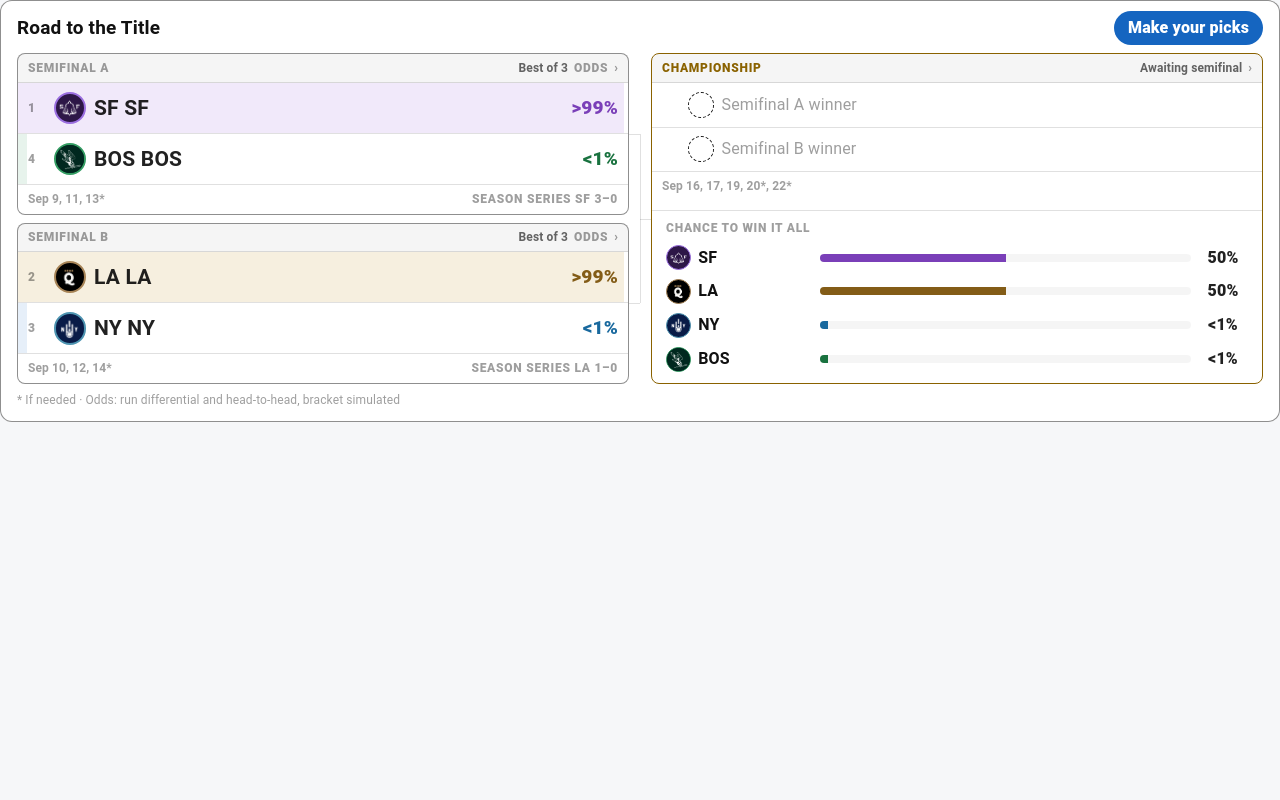
it: picking a series › asks for a club before it asks how long
The image size is (1280, 800).
Click the button "Make your picks".
click(1188, 28)  # box [1114, 11, 1263, 45]
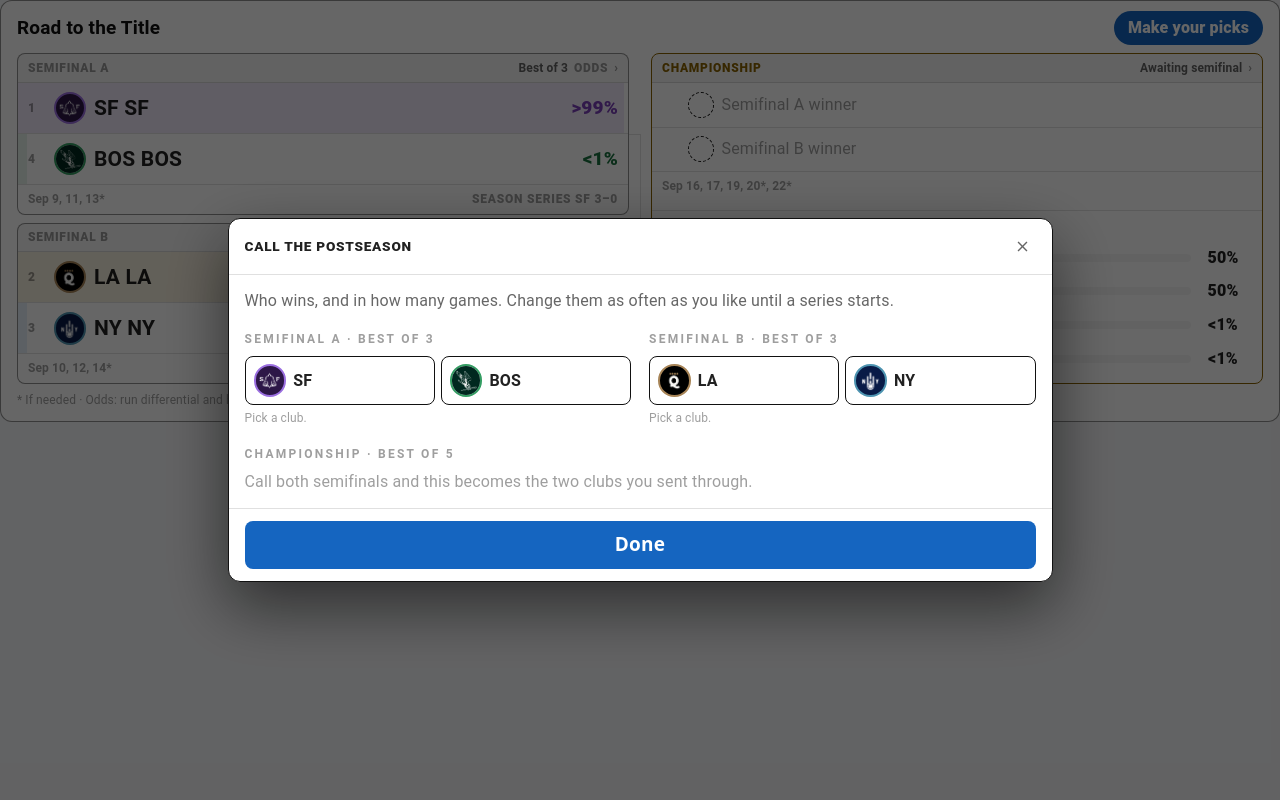
Result: the text "Call the postseason" is shown at [244, 238, 412, 254]
Result: the radio button with aria-label "Semifinal A: SF to win" is shown
Result: the radio button with aria-label "Semifinal A: BOS to win" is shown at [441, 356, 631, 405]
Click the radio button with aria-label "Semifinal A: SF to win".
click(340, 381)  # box [244, 356, 435, 405]
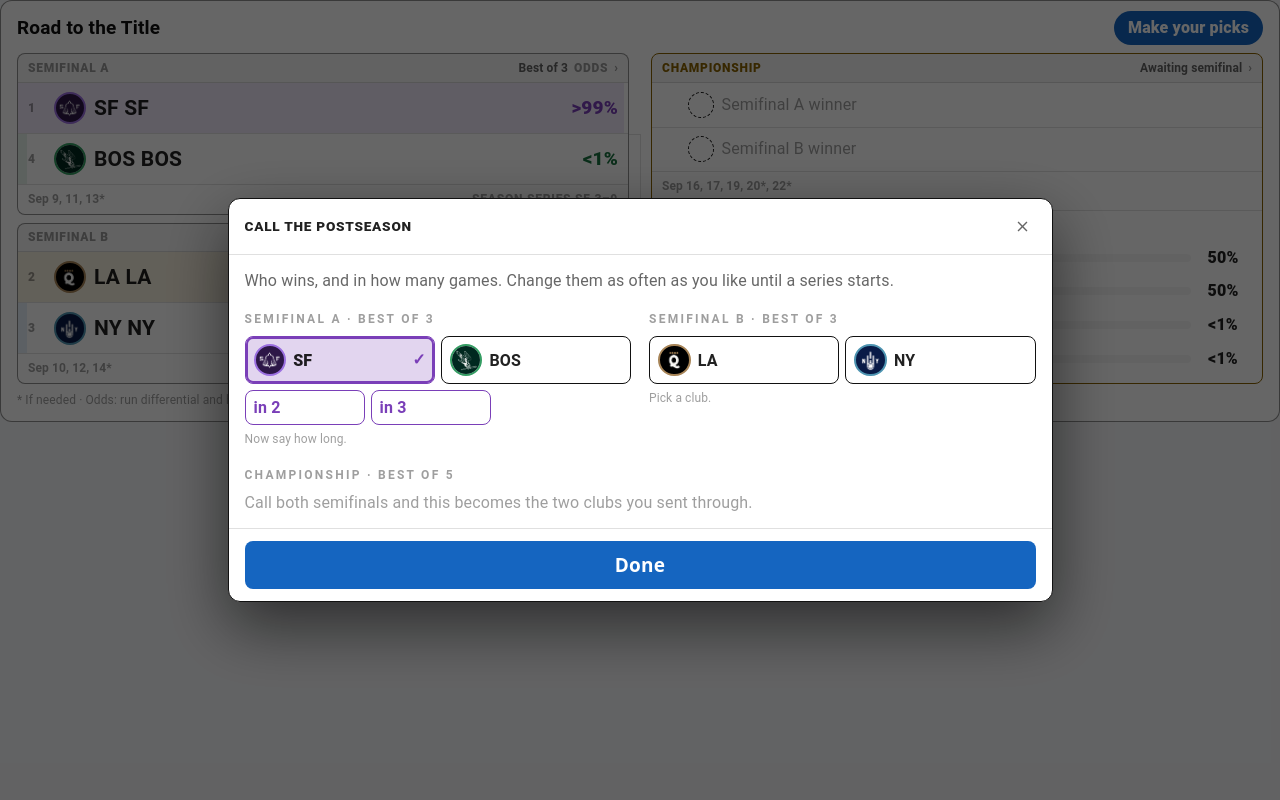
Result: the radio button with aria-label "Semifinal A: SF in 2" is shown at [244, 390, 364, 425]
Result: the radio button with aria-label "Semifinal A: SF in 3" is shown at [370, 390, 490, 425]
